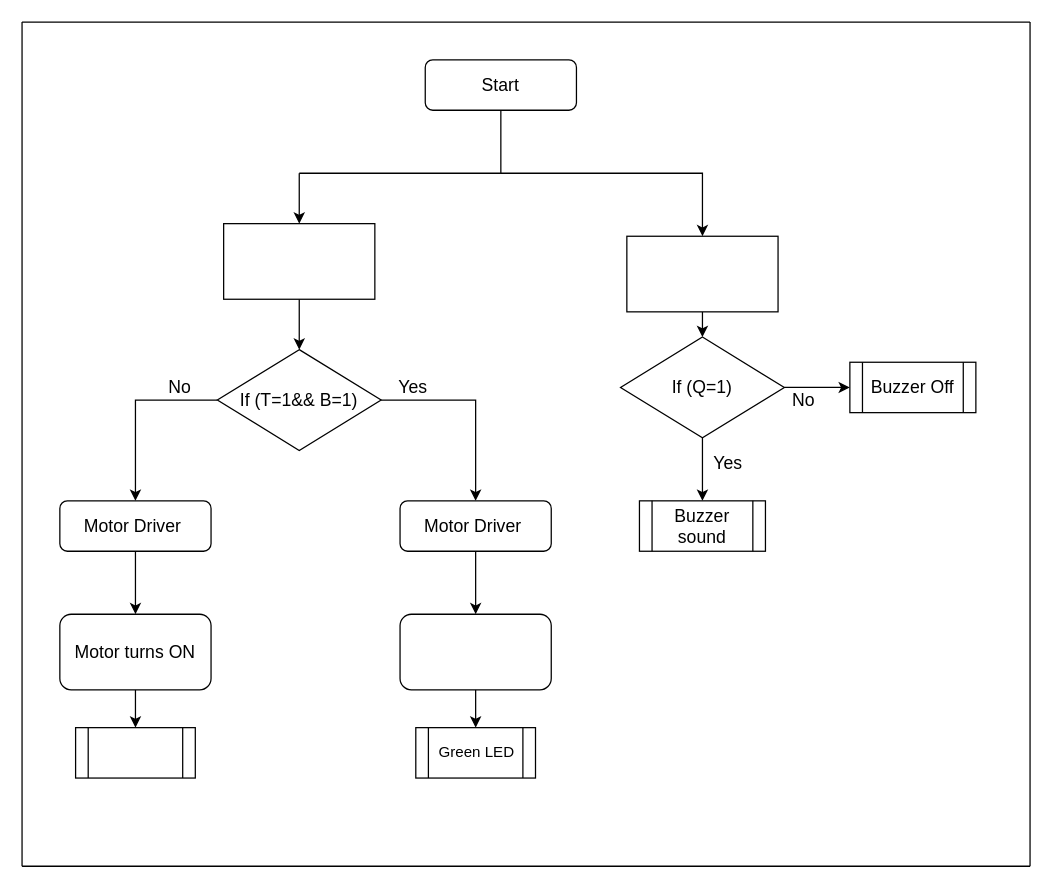
The diagram is 1053 pixels wide and 890 high, and some of its shapes have lost their labels. The shapes that lost their labels are listed below. From the top down, each one's centre as x and y in pixels, then its label:
At [298,260]: "Read Water level (Top T) (Bottom B)".
At [702,273]: "Read Water Quality".
At [475,651]: "Motor turns OFF".
At [134,752]: "Red LED".
